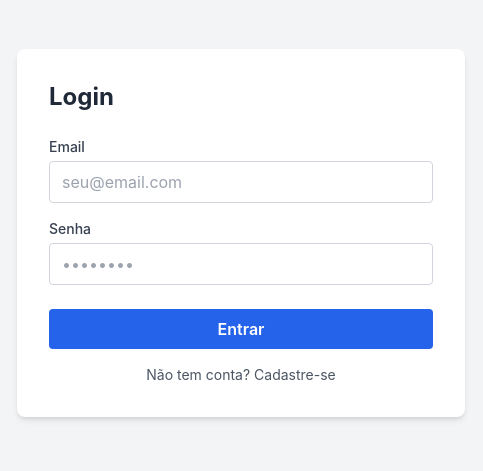
Test case: Login component › shows error when only email is filled
In the field labelled "Email": (241, 182) [49,161,433,203], type "user@example.com"
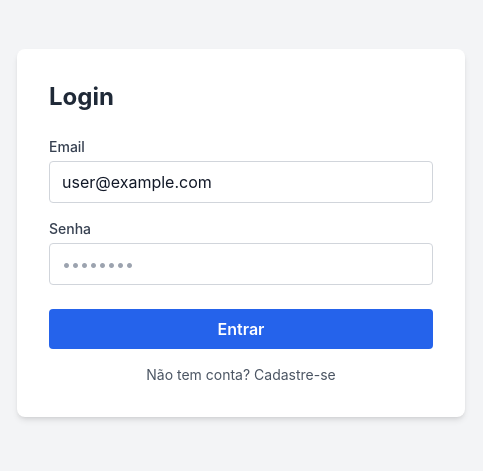
Click the button "Entrar": click(241, 329) [49,309,433,349]
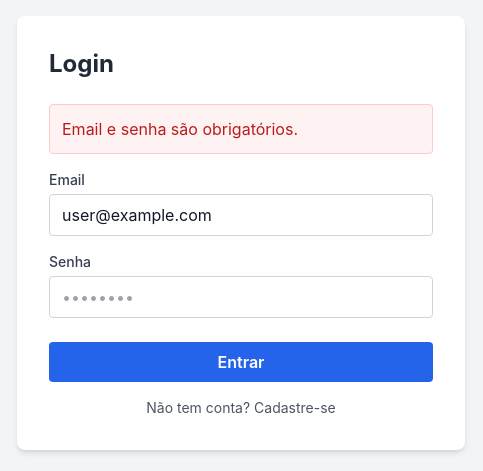
Result: the text "Email e senha são obrigatórios." is shown at [49,104,433,154]
